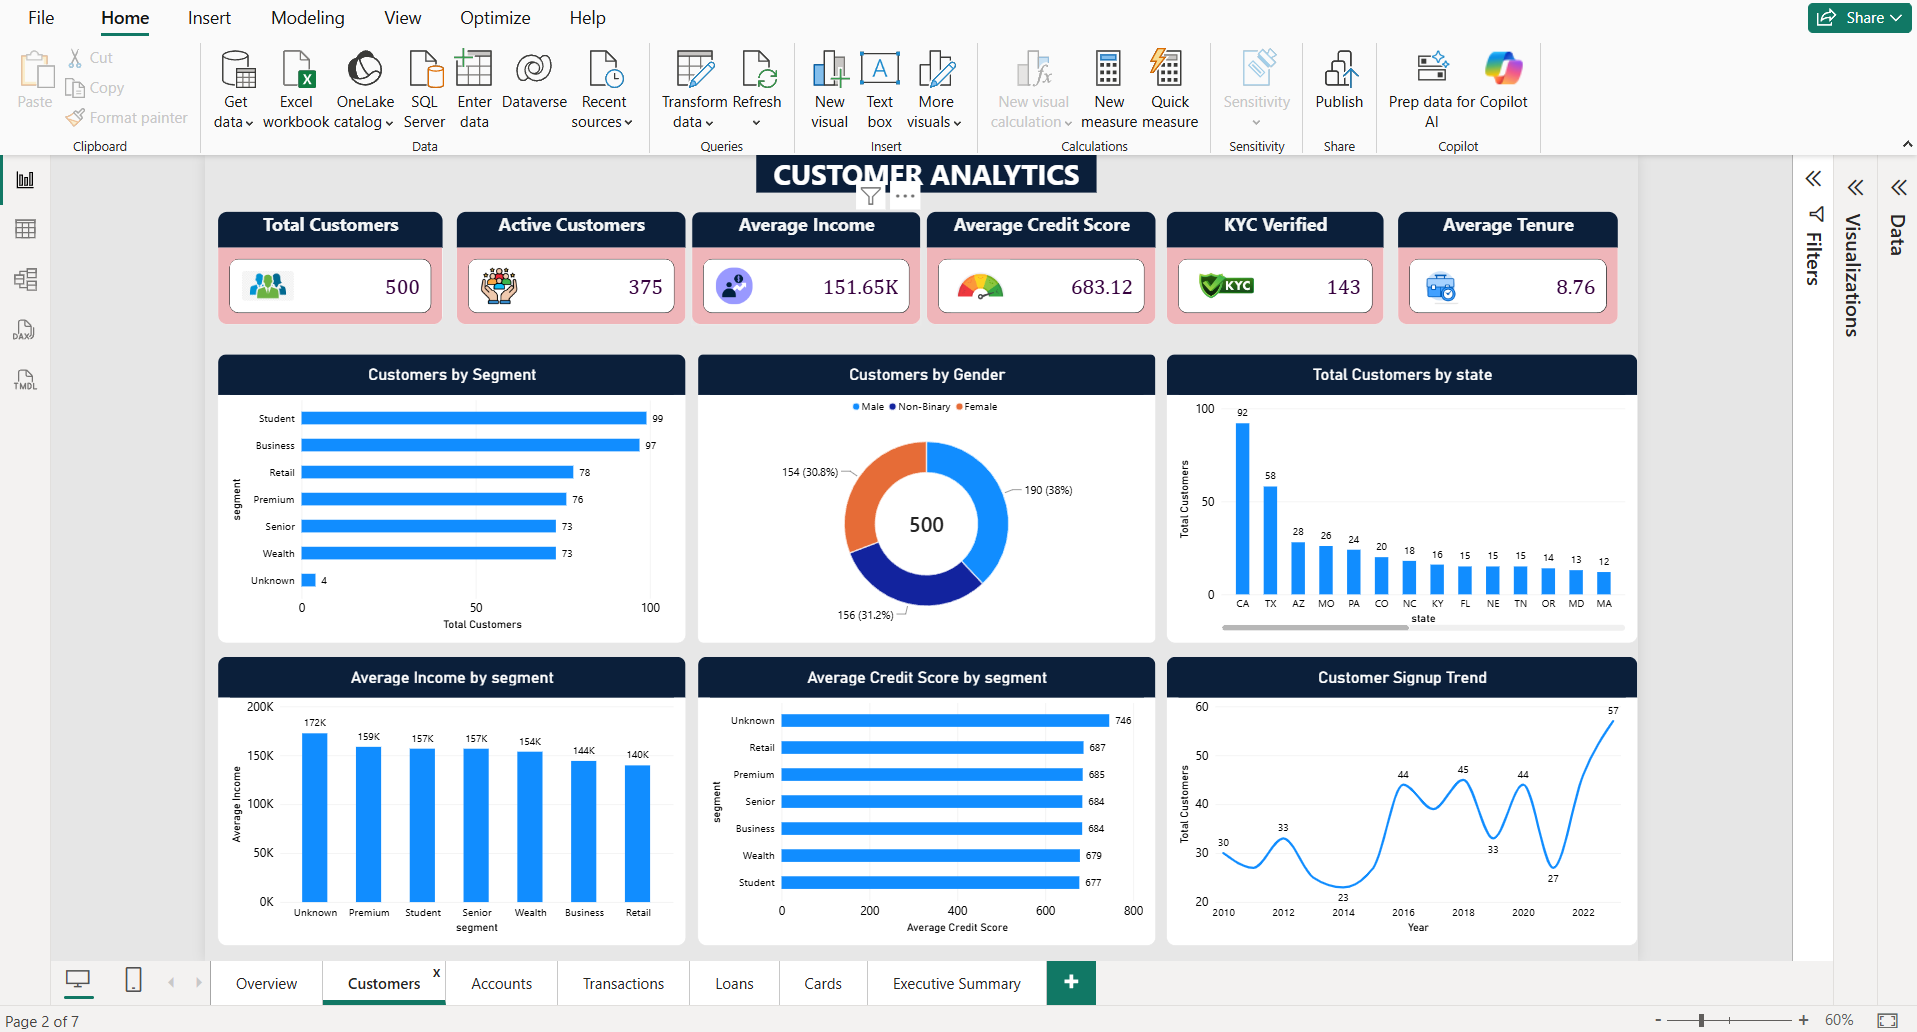

The page's visual inventory and layout, read from the dashboard file:
{"tool":"powerbi","page":{"name":"Customers","canvas":[1920,1080],"ordinal":1},"visuals":[{"type":"textbox","box":[738,0,456,50],"z":0},{"type":"cardVisual","title":"Total Customers","fields":{"Data":["customers.Total Customers"]},"box":[16,76,302,152],"z":1000},{"type":"cardVisual","title":"Active Customers","fields":{"Data":["customers.Active Customers"]},"box":[336,76,308,152],"z":2000},{"type":"cardVisual","title":"Average Income","fields":{"Data":["customers.Average Income"]},"box":[652,76,308,152],"z":3000},{"type":"cardVisual","title":"Average Credit Score","fields":{"Data":["customers.Average Credit Score"]},"box":[966,76,308,152],"z":4000},{"type":"cardVisual","title":"KYC  Verified","fields":{"Data":["customers.KYC Verified"]},"box":[1288,76,292,152],"z":5000},{"type":"cardVisual","title":"Average Tenure","fields":{"Data":["customers.Average Tenure"]},"box":[1598,76,296,152],"z":6000},{"type":"barChart","title":"Customers by Segment","fields":{"Category":["customers.segment"],"Y":["customers.Total Customers"]},"box":[16,266,628,388],"z":7000},{"type":"donutChart","title":"Customers by Gender","fields":{"Category":["customers.gender"],"Y":["customers.Total Customers"]},"box":[660,266,614,388],"z":8000},{"type":"columnChart","fields":{"Category":["customers.state"],"Y":["customers.Total Customers"]},"box":[1288,266,632,388],"z":9000},{"type":"clusteredColumnChart","fields":{"Category":["customers.segment"],"Y":["customers.Average Income"]},"box":[16,672,628,388],"z":10000},{"type":"clusteredBarChart","fields":{"Category":["customers.segment"],"Y":["customers.Average Credit Score"]},"box":[660,672,614,388],"z":11000},{"type":"lineChart","title":"Customer Signup Trend","fields":{"Category":["customers.customer_since.Variation.Date Hierarchy.Year","customers.customer_since.Variation.Date Hierarchy.Quarter","customers.customer_since.Variation.Date Hierarchy.Month","customers.customer_since.Variation.Date Hierarchy.Day"],"Y":["customers.Total Customers"]},"box":[1288,672,632,388],"z":12000}]}

Visuals, with their boxes on the page's 1920x1080 design canvas (x1, y1, x2, y2). These are canvas units, not pixel positions in the 1917x1032 screenshot, which may show the page scaled, cropped or inside an application window:
textbox: x1=738 y1=0 x2=1194 y2=50
"Total Customers" cardVisual: x1=16 y1=76 x2=318 y2=228
"Active Customers" cardVisual: x1=336 y1=76 x2=644 y2=228
"Average Income" cardVisual: x1=652 y1=76 x2=960 y2=228
"Average Credit Score" cardVisual: x1=966 y1=76 x2=1274 y2=228
"KYC  Verified" cardVisual: x1=1288 y1=76 x2=1580 y2=228
"Average Tenure" cardVisual: x1=1598 y1=76 x2=1894 y2=228
"Customers by Segment" barChart: x1=16 y1=266 x2=644 y2=654
"Customers by Gender" donutChart: x1=660 y1=266 x2=1274 y2=654
columnChart - customers.state x customers.Total Customers: x1=1288 y1=266 x2=1920 y2=654
clusteredColumnChart - customers.segment x customers.Average Income: x1=16 y1=672 x2=644 y2=1060
clusteredBarChart - customers.segment x customers.Average Credit Score: x1=660 y1=672 x2=1274 y2=1060
"Customer Signup Trend" lineChart: x1=1288 y1=672 x2=1920 y2=1060
